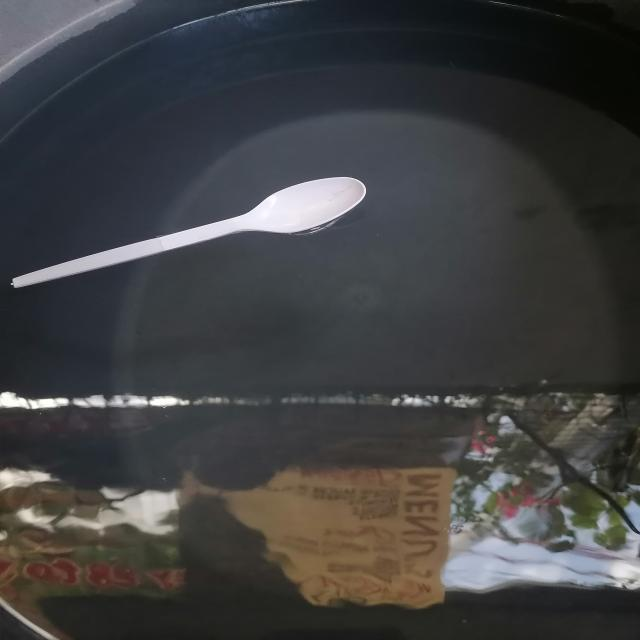Plastic Spoon: (11, 177, 366, 288)
